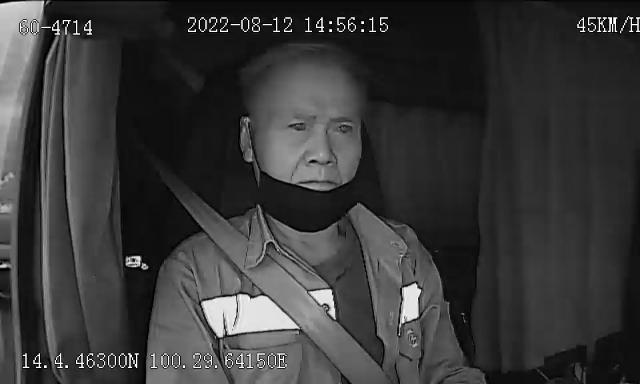SafeDriving: (324, 114, 360, 140), (280, 112, 316, 137)
Seatbelt: (165, 174, 391, 384)
